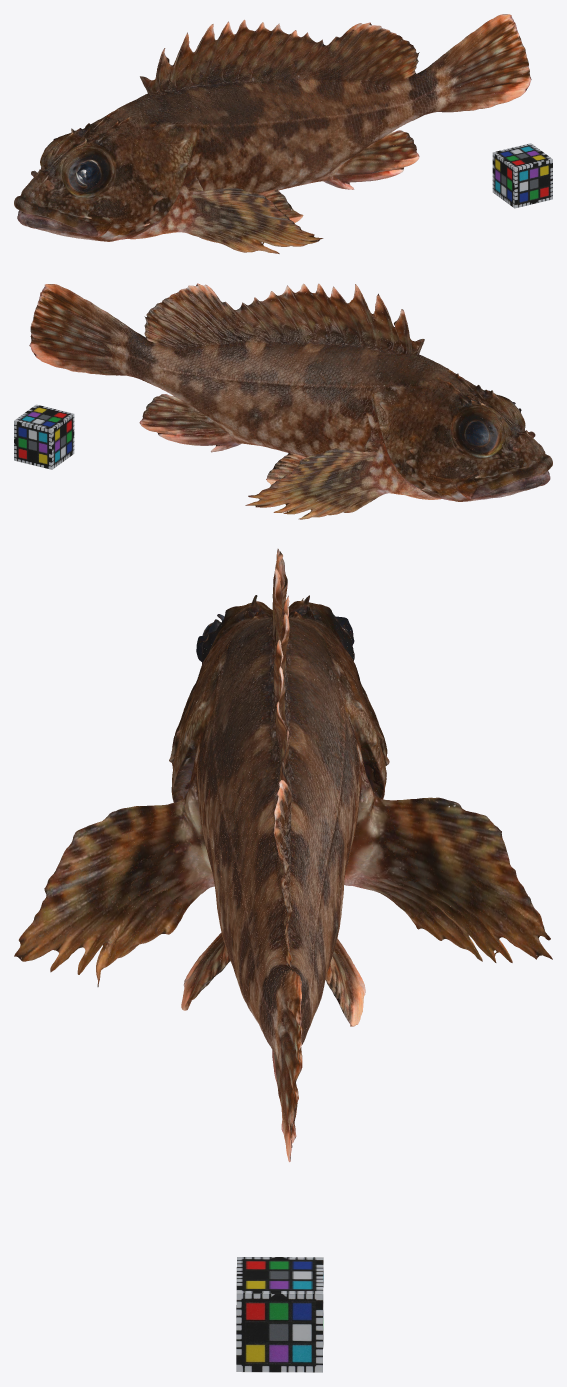
The model's file is kasago-d0d0d2e095d7.glb.
3 views of the same model, one above another, from view 1: azimuth 30°, elevation 25°; view 2: azimuth 150°, elevation 25°; view 3: azimuth 270°, elevation 25° (orthographic). The views are drawn at different scales.
Parts seen in each view (by area): view 1: Q11479-1all-1_5, Cube_2; view 2: Q11479-1all-1_5, Cube_2; view 3: Q11479-1all-1_5, Cube_2.
Boxes of the visible parts, <box> form: Q11479-1all-1_5: <box>14,14,531,253</box>; Cube_2: <box>492,143,552,208</box>; Q11479-1all-1_5: <box>29,283,552,519</box>; Cube_2: <box>14,404,74,469</box>; Q11479-1all-1_5: <box>14,549,552,1162</box>; Cube_2: <box>236,1257,323,1372</box>.
Bounding box in the file's own units: 9.5 × 4.3 × 4.31.
Materials: 3 (3 with a texture image).
